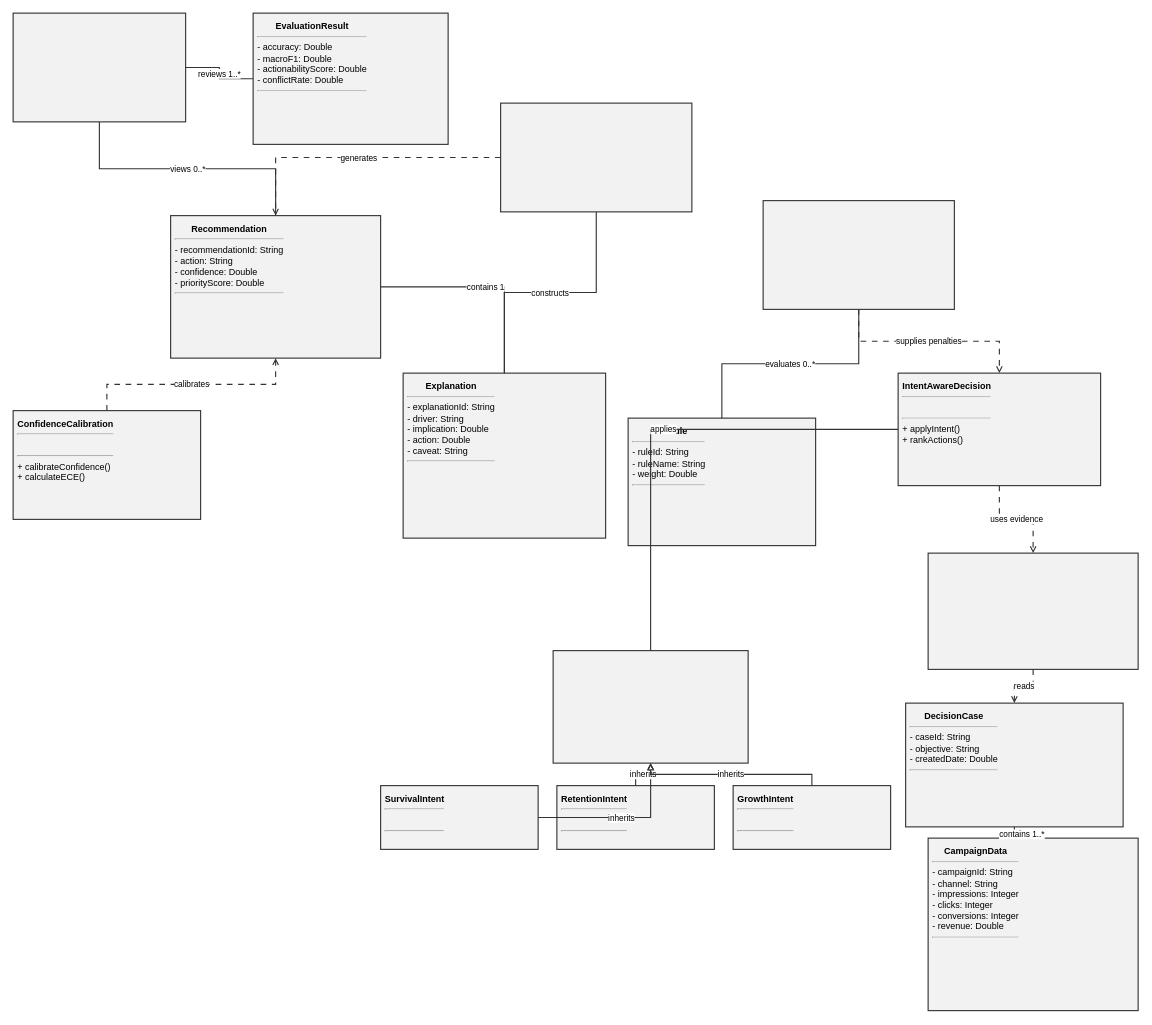
Some shapes in this 1152 by 1025 pixel diagram are drawn without their labels. Each missing label, with the centre of its shape:
BusinessIntent - intentId: String - intentName: String: (650,706)
ExplanationGenerator + generateExplanation() + calculateECE(): (596,157)
PredictiveAttribution + calculateContribution() + predictPerformance(): (1032,611)
SoftRuleReasoner + evaluateRules() + calculatePenalty(): (858,255)
User - userId: String - name: String - email: String: (99,67)
